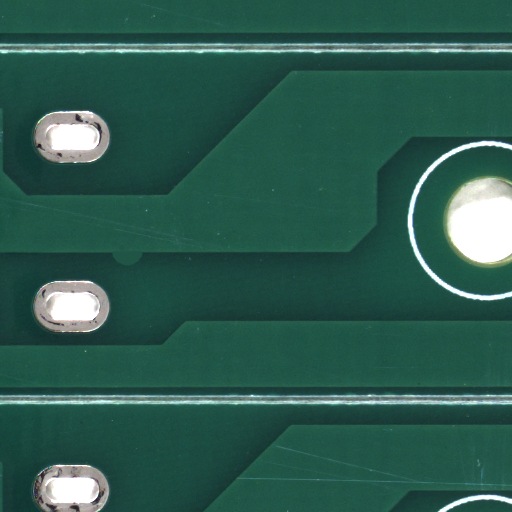Spur: (129, 256, 166, 271)
